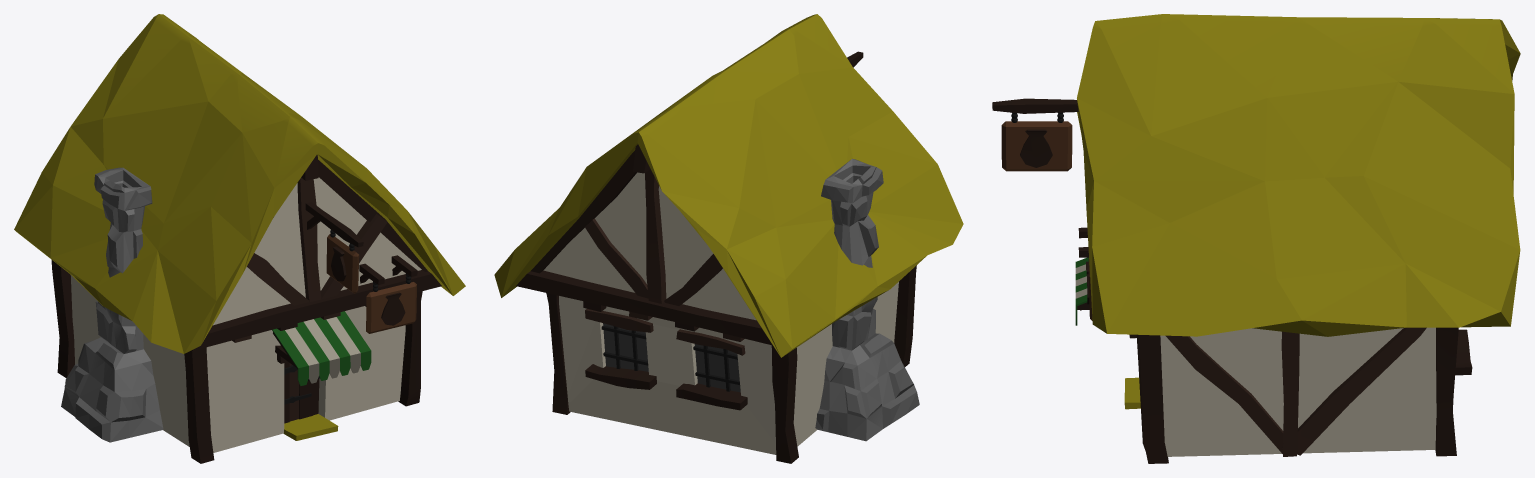
File: Shop01.fbx
3 renders of one model, left to right at view 1: azimuth 30°, elevation 25°; view 2: azimuth 150°, elevation 25°; view 3: azimuth 270°, elevation 25°, orthographic. The views are drawn at different scales.
Parts seen in each view (by area): view 1: BuildingShop02; view 2: BuildingShop02; view 3: BuildingShop02.
Part boxes in pixels (x1,y1,x2,y2): BuildingShop02: (14, 14, 465, 463); BuildingShop02: (494, 14, 963, 463); BuildingShop02: (992, 14, 1520, 463).
Bounding box in the file's own units: 2.31 × 2.17 × 2.75.
